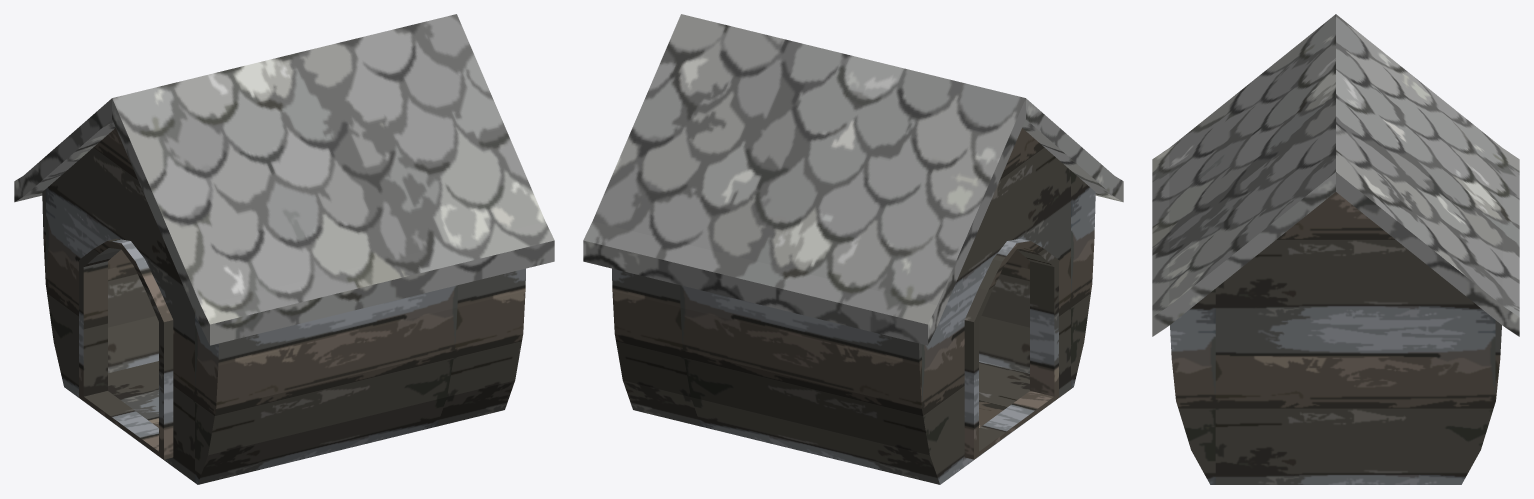
Rendered from DoghouseFinal.fbx.
The picture shows the model from 3 angles, left to right: view 1: azimuth 30°, elevation 25°; view 2: azimuth 150°, elevation 25°; view 3: azimuth 270°, elevation 25°; orthographic projection. The views are drawn at different scales.
Visible parts, largest first — view 1: dog house; view 2: dog house; view 3: dog house.
Part boxes in pixels (<box>): dog house: <box>14,14,554,484</box>; dog house: <box>583,14,1123,484</box>; dog house: <box>1152,14,1519,484</box>.
Size of the model in its own units: 224 by 221 by 213.
